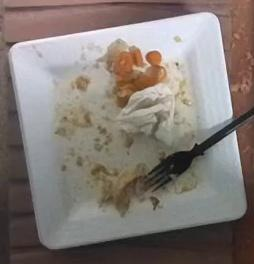carrots: (110, 42, 167, 105)
